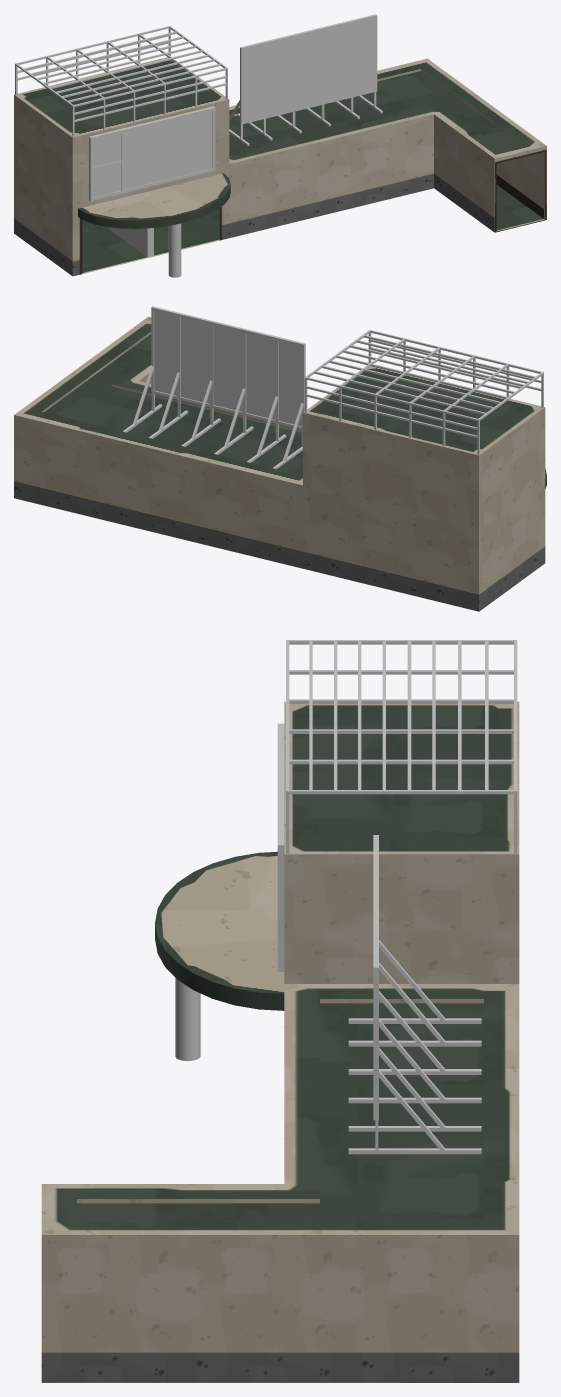
3 views of the same model, one above another, from view 1: azimuth 30°, elevation 25°; view 2: azimuth 150°, elevation 25°; view 3: azimuth 270°, elevation 25° (orthographic). The views are drawn at different scales.
Visible parts, largest first — view 1: Cube6, Cube6_Sign Stand 07, Cube6_IntSign 01, Cube6_VerBar 02, Cube6_Front Extrusion, Cube6_Wall, Cube6_Pillar; view 2: Cube6, Cube6_Sign Stand 07, Cube6_VerBar 02; view 3: Cube6, Cube6_Front Extrusion, Cube6_VerBar 02, Cube6_Sign Stand 07, Cube6_IntSign 01, Cube6_Pillar.
Boxes of the visible parts, x1,y1,x2,y2 form: Cube6: (14,57,546,276); Cube6_Sign Stand 07: (229,14,382,145); Cube6_IntSign 01: (89,106,215,201); Cube6_VerBar 02: (15,26,227,136); Cube6_Front Extrusion: (78,173,230,228); Cube6_Wall: (107,227,153,257); Cube6_Pillar: (168,223,181,277); Cube6: (14,316,545,611); Cube6_Sign Stand 07: (123,306,305,469); Cube6_VerBar 02: (304,330,543,454); Cube6: (41,701,519,1382); Cube6_Front Extrusion: (155,851,284,1010); Cube6_VerBar 02: (286,640,517,853); Cube6_Sign Stand 07: (348,835,481,1154); Cube6_IntSign 01: (277,723,284,971); Cube6_Pillar: (175,978,200,1061).
Size of the model in its own units: 40.31 by 15.84 by 20.17.
